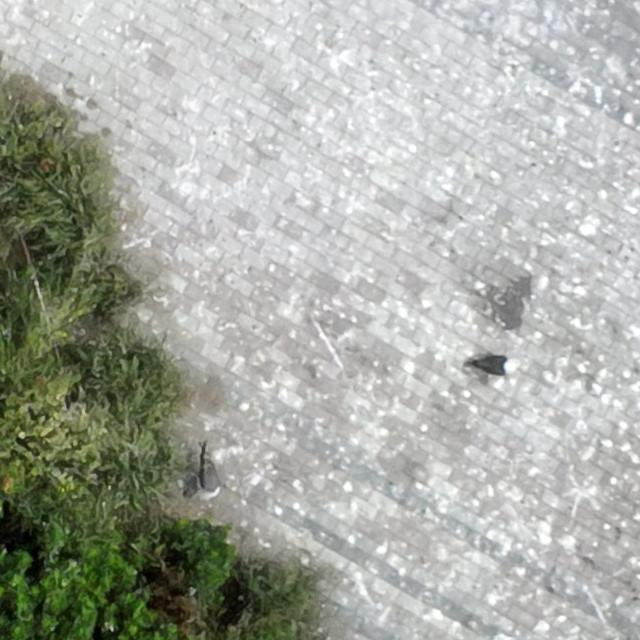umineko: (472, 357, 513, 375), (201, 462, 218, 496)
